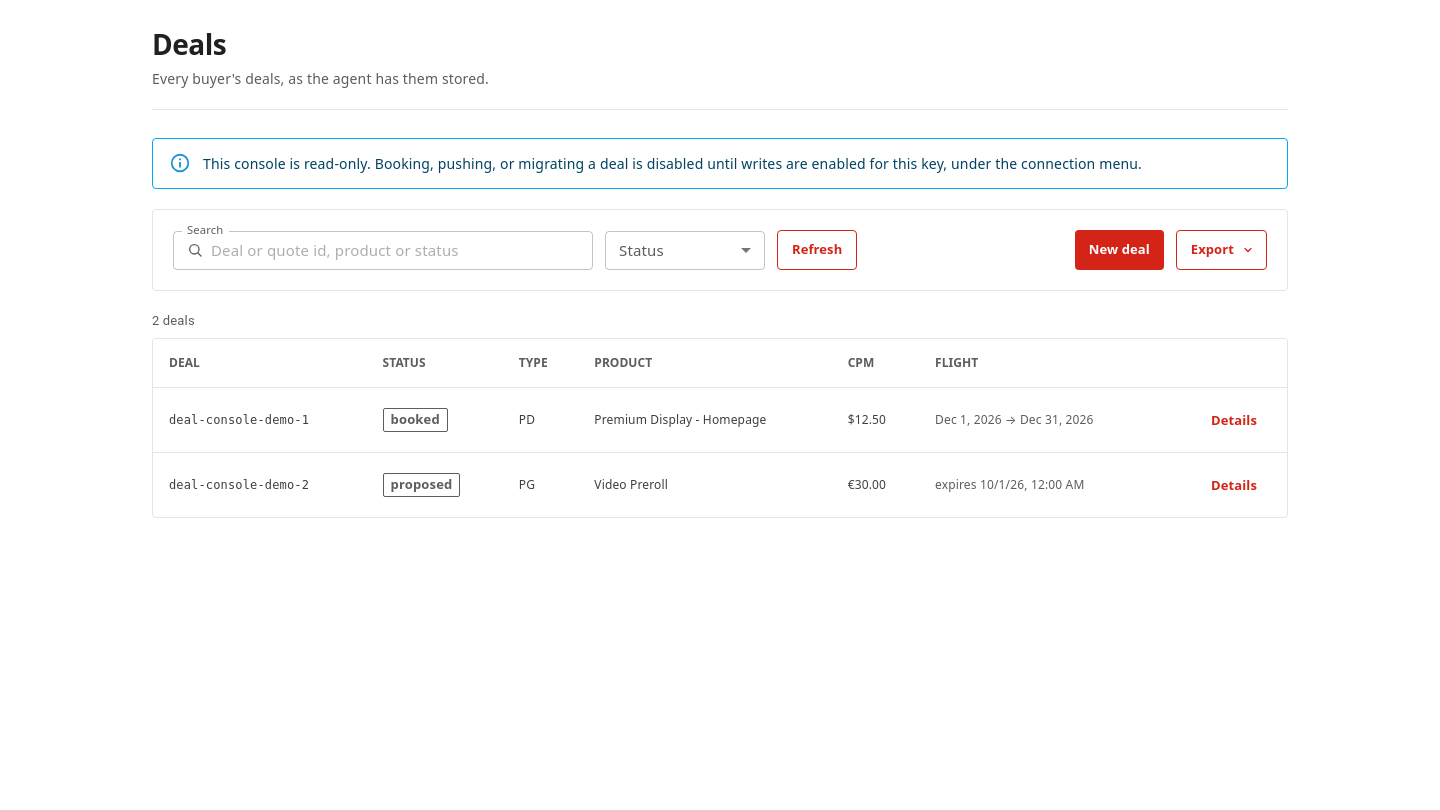
the deals screen › filters on the wire status and asks the agent for it
Click the dropdown named "Status" at (685, 250), box [605, 231, 765, 270]
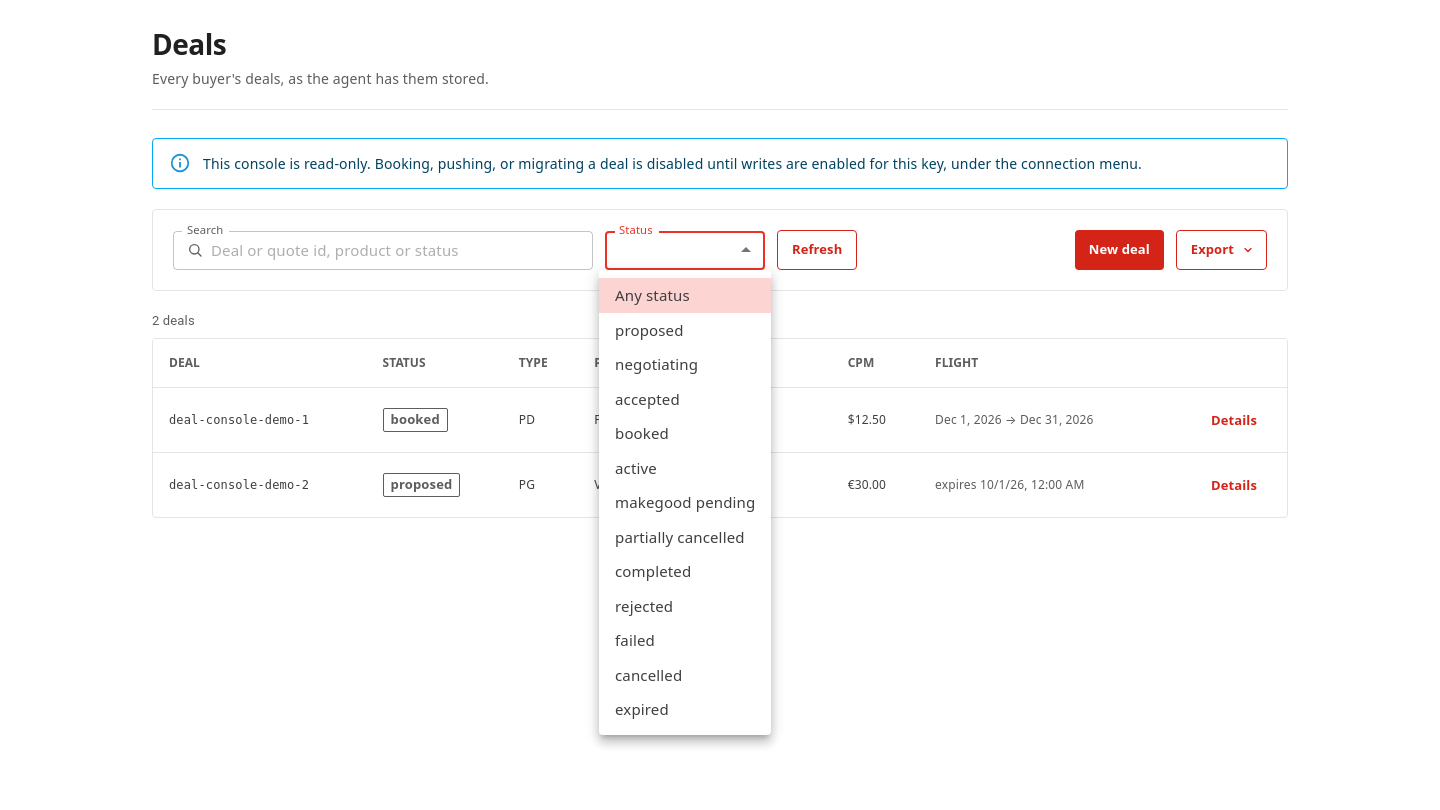
Click the option "booked" at (642, 433), box [615, 423, 669, 443]
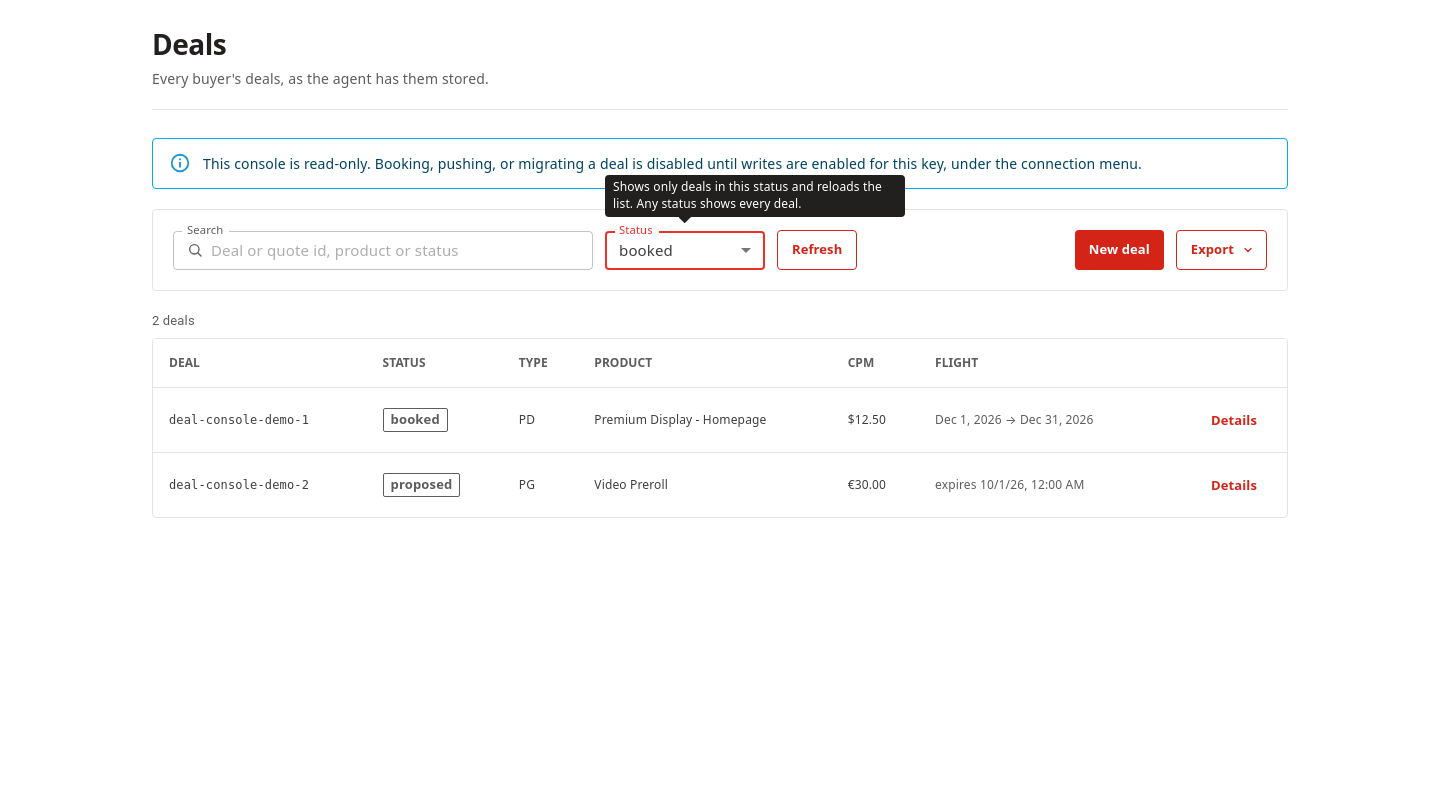
Expected: the dropdown named "Status" reads "booked", [619, 240, 673, 260]
